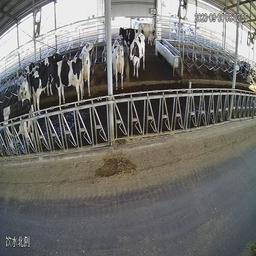cow: (44, 56, 85, 107), (31, 51, 63, 115), (0, 97, 32, 151), (78, 39, 95, 98), (117, 26, 145, 57), (129, 33, 146, 80), (111, 37, 125, 93), (15, 61, 36, 97), (136, 22, 159, 47), (18, 71, 32, 110), (238, 64, 254, 86)
